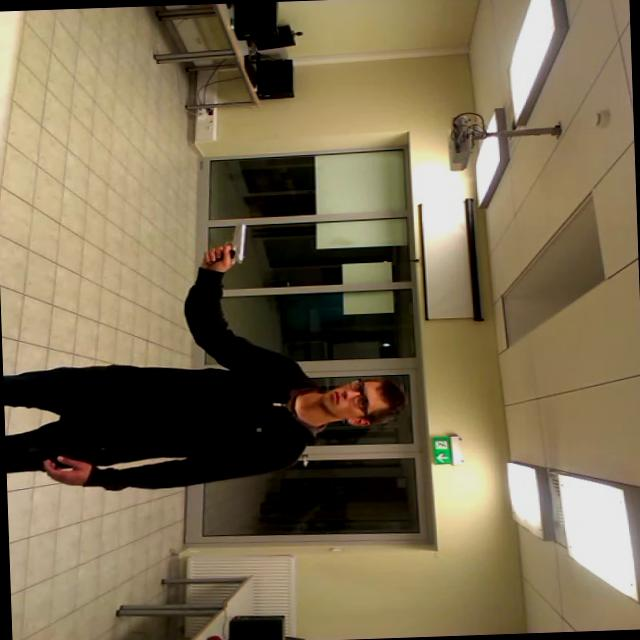handgun: (198, 216, 254, 272)
